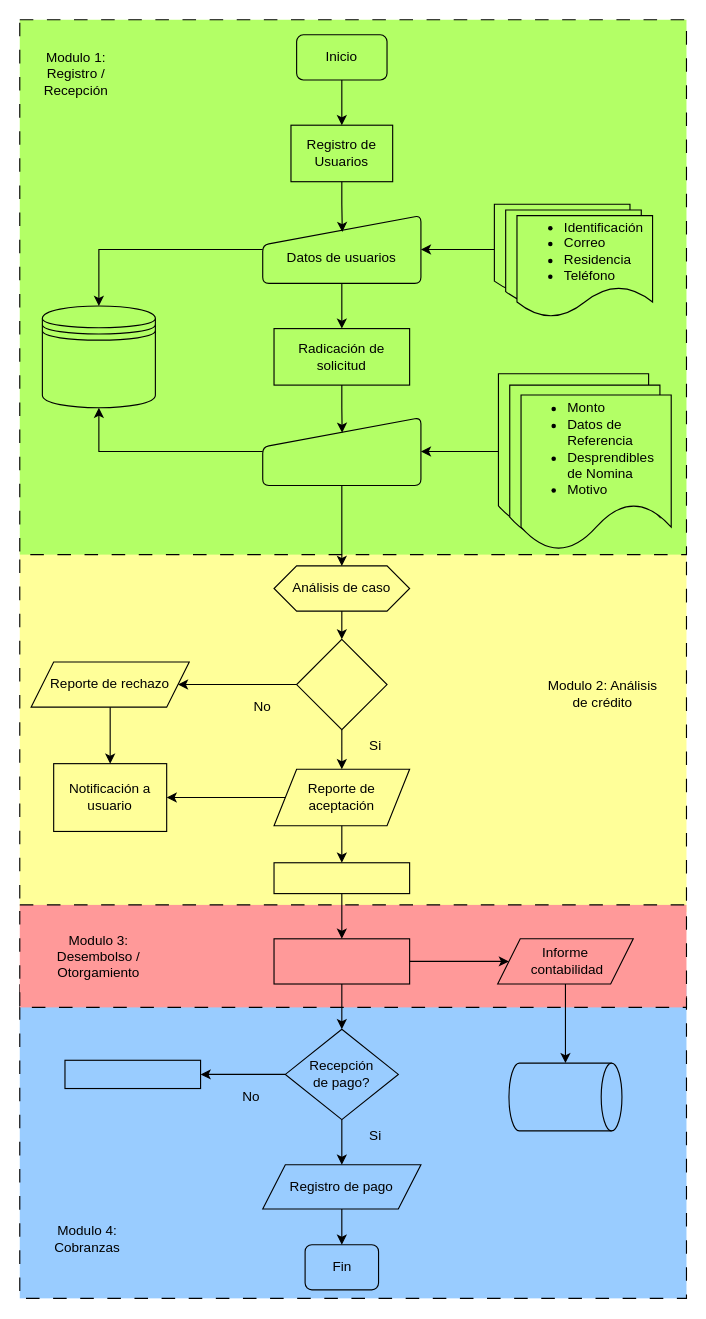
The diagram is 706 pixels wide and 1319 high, and some of its shapes have lost their labels. Each missing label, with the centre of its shape:
Acepta solicitud?: the point at 341,684
Base de datos: the point at 98,356
Cobranzas: the point at 132,1074
Desembolso de capital: the point at 341,961
Firma de contrato: the point at 341,878
Registro o inventario: the point at 565,1096
Solicitud de crédito: the point at 341,451
